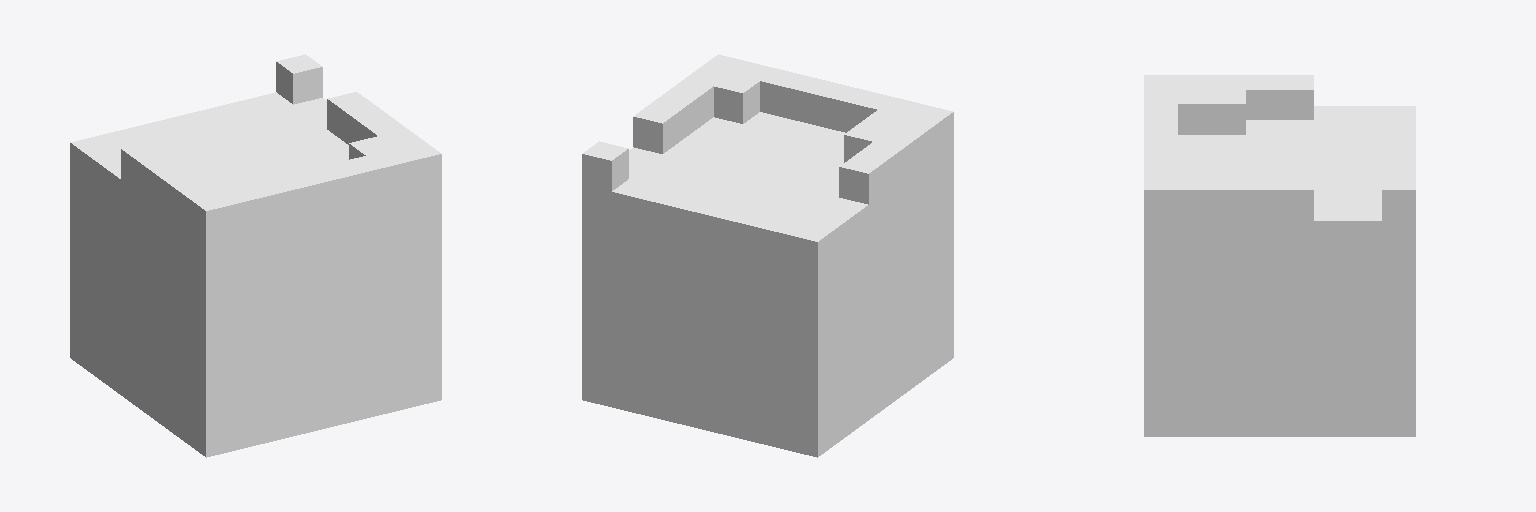
The model's file is PathStart.obj.
3 views of the same model, side by side, from view 1: azimuth 30°, elevation 25°; view 2: azimuth 150°, elevation 25°; view 3: azimuth 270°, elevation 25° (orthographic).
Parts seen in each view (by area): view 1: object 1; view 2: object 1; view 3: object 1.
Part boxes in pixels (x1,y1,x2,y2): object 1: (70,54,441,457); object 1: (582,54,953,457); object 1: (1144,75,1415,436).
Bounding box in the file's own units: 0.8 × 0.8 × 0.8.